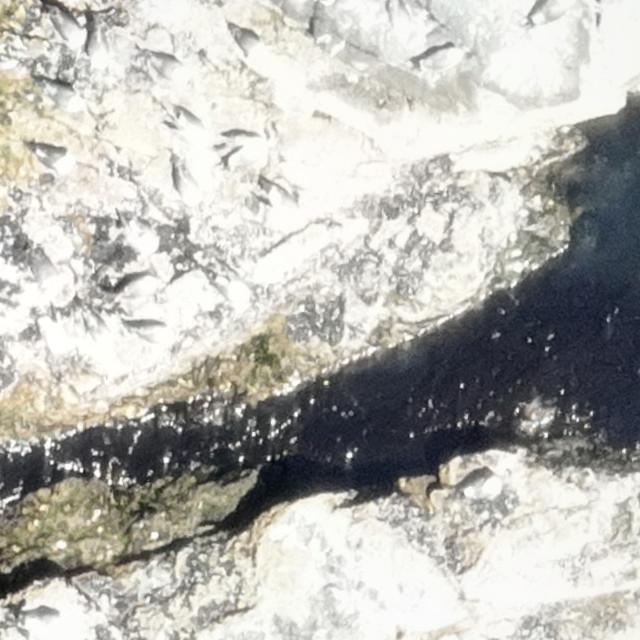umineko: (163, 158, 198, 205), (31, 247, 63, 294), (170, 101, 201, 143), (219, 143, 268, 168), (417, 48, 465, 72), (38, 142, 73, 173), (457, 478, 504, 501), (89, 17, 111, 66), (140, 318, 180, 344), (57, 10, 84, 44), (123, 273, 159, 298), (233, 31, 261, 55)
